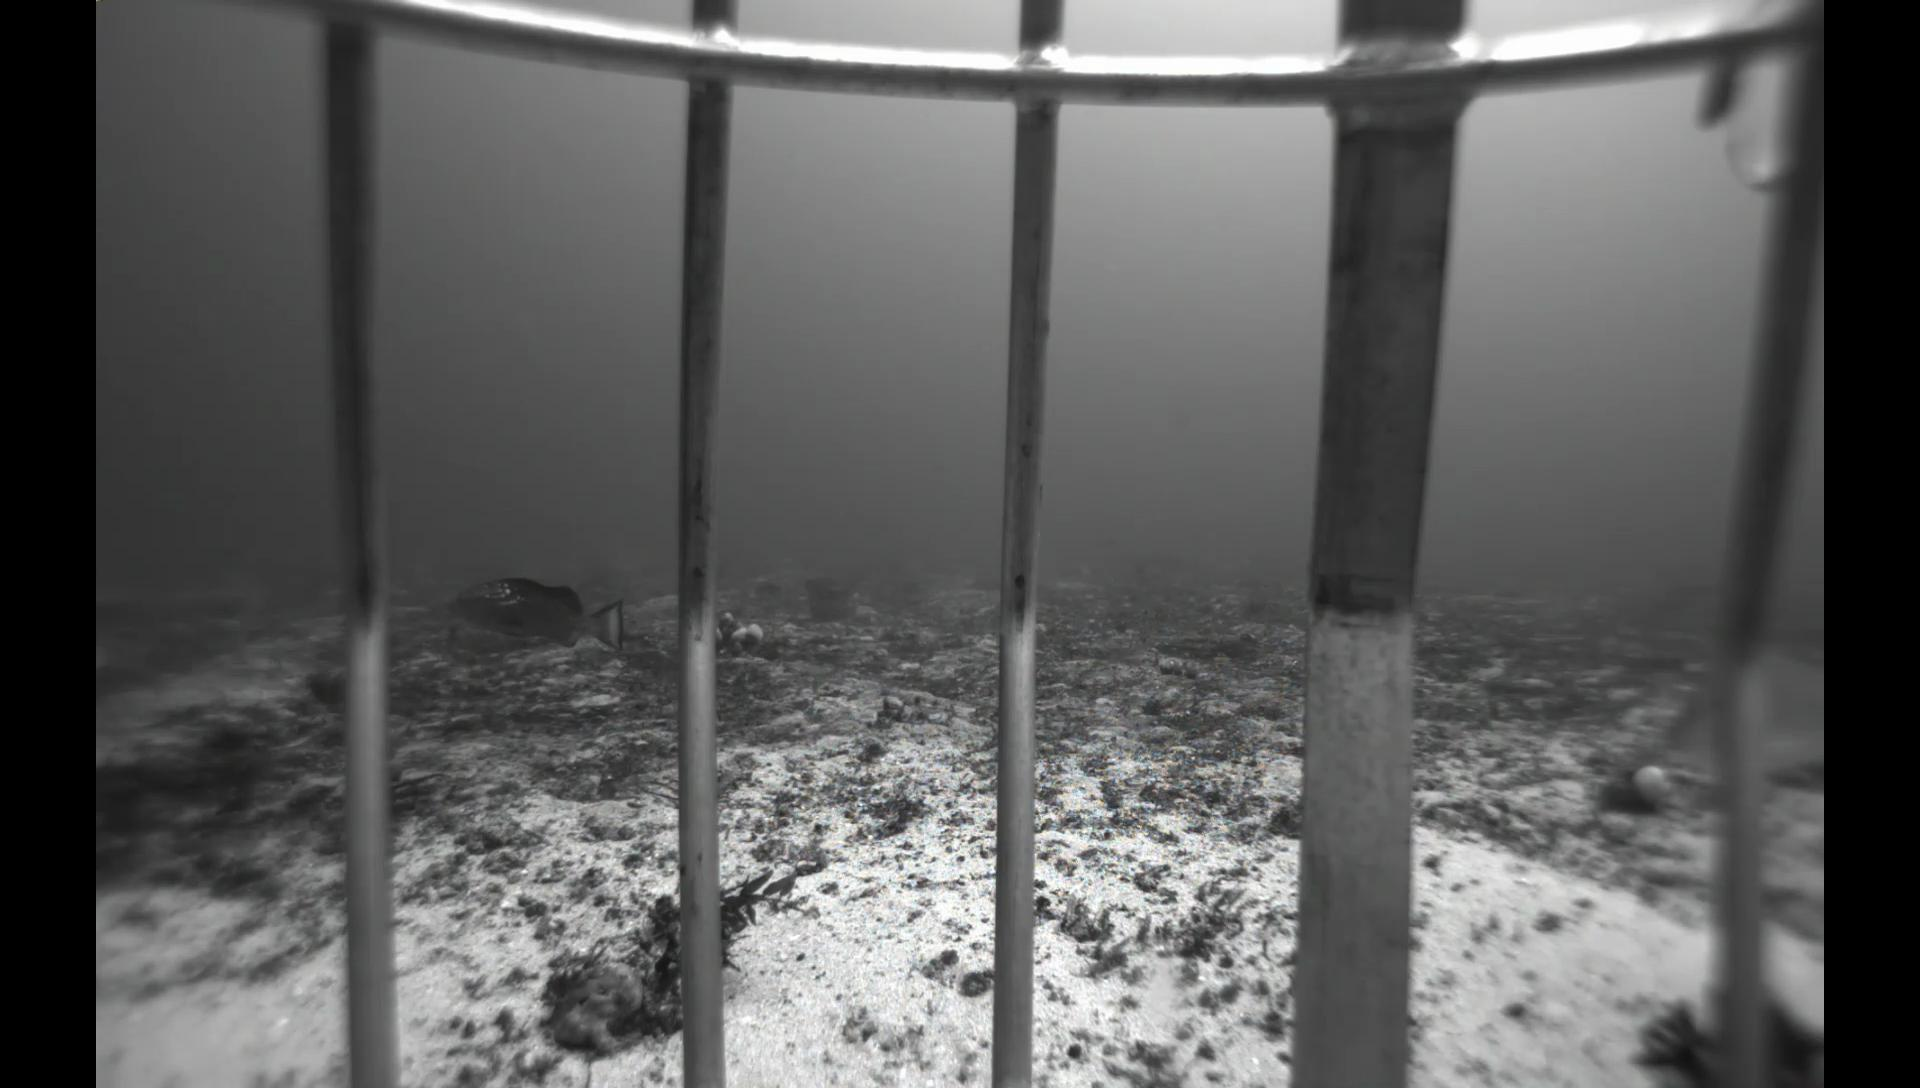CALAMUSNODOSUS-170210608: (1650, 640, 1826, 789)
CHAETODONOCELLATUS-170260307: (1063, 557, 1098, 582)
EPINEPHELUSMORIO-170021211: (442, 578, 632, 659)
HALICHOERESBIVITTATUS-170281202: (125, 680, 182, 699)
PRISTIGENYSALTA-170050401: (303, 659, 345, 713)
